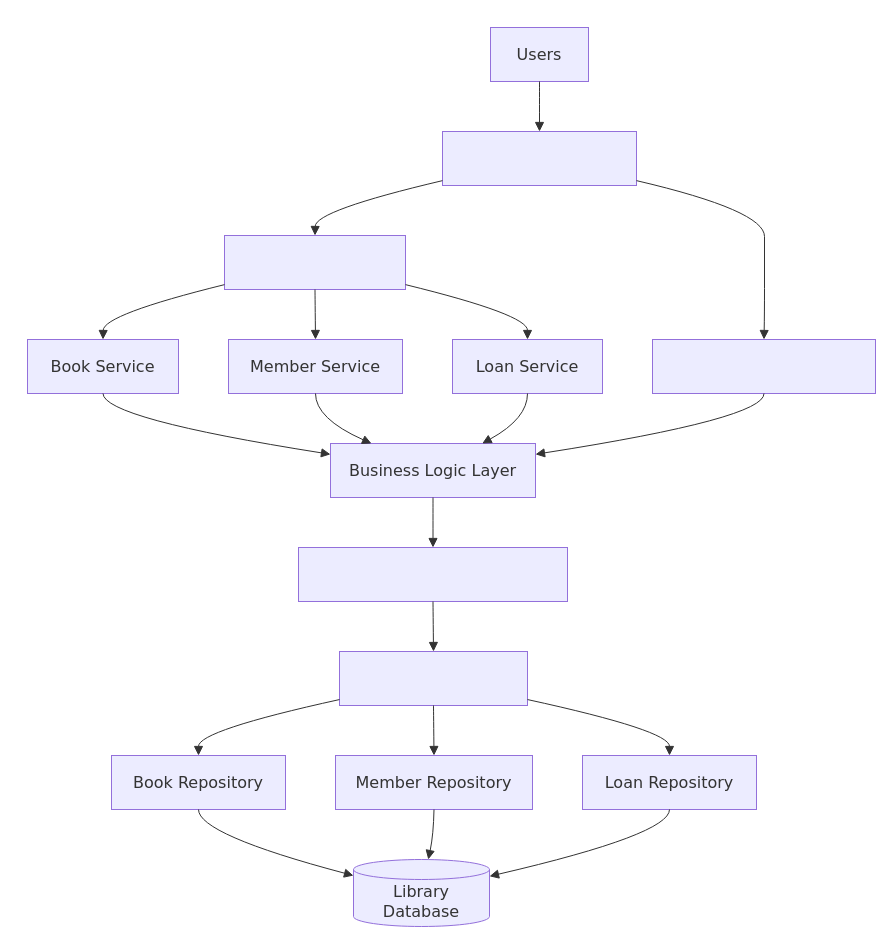
The diagram is 893 pixels wide and 944 high, and some of its shapes have lost their labels. Each missing label, with the centre of its shape:
Authentication Service: [764,366]
Data Access Layer: [433,678]
Library Interface: [315,262]
Presentation Layer: [539,158]
Validation and Business Rules: [433,574]
